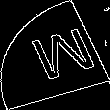M_S: (16, 23, 94, 87)
